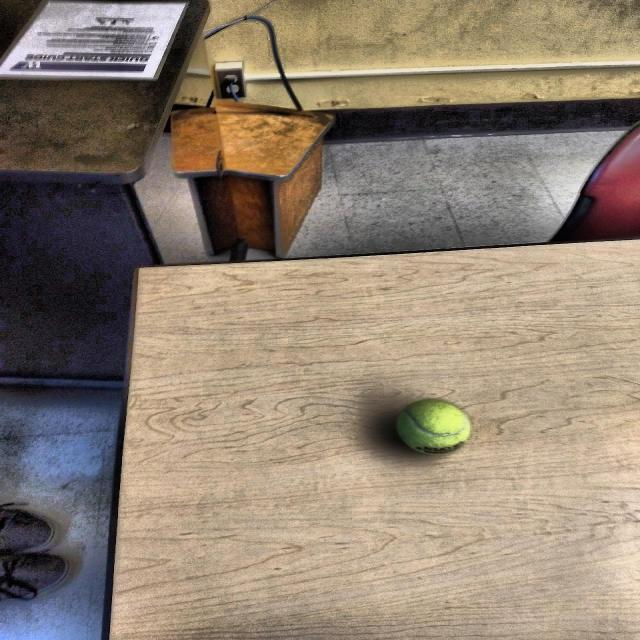tennis-ball: (390, 395, 476, 464)
